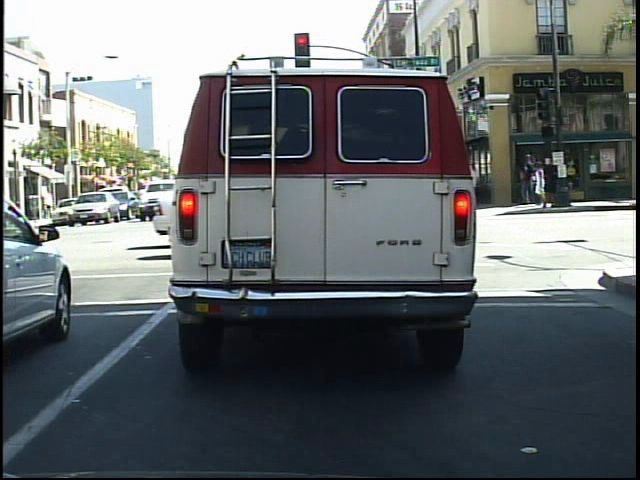person: (537, 154, 564, 220), (520, 150, 541, 211), (532, 159, 552, 210), (516, 157, 535, 210)
